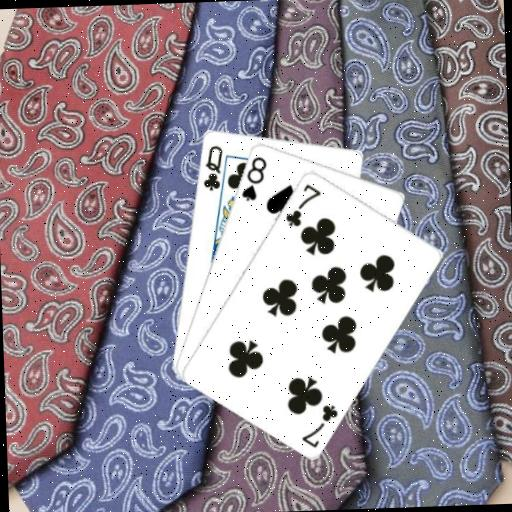7C: (297, 401, 341, 450), (280, 179, 323, 228)
8S: (237, 153, 270, 203)
QC: (198, 141, 225, 192)
